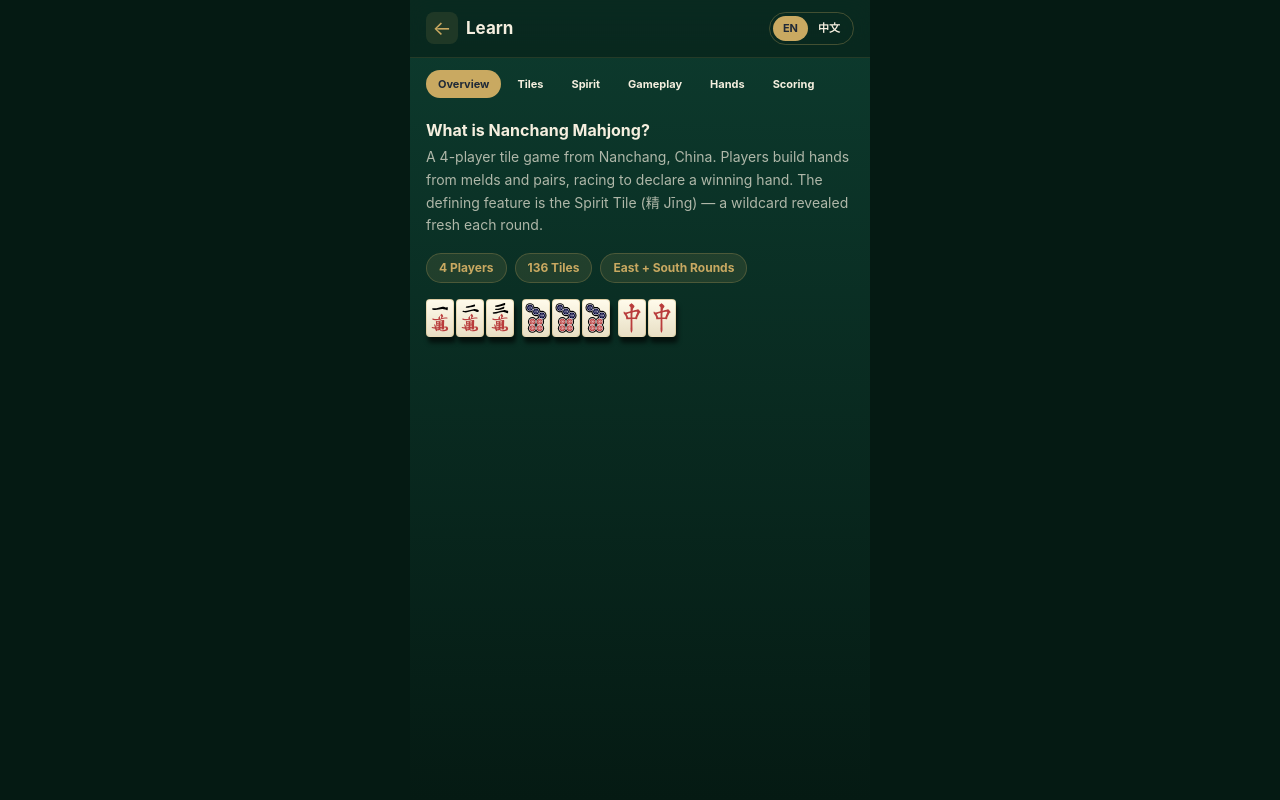
Test: LearnPage › Learn·examples-render — switching to Spirit tab renders spirit tile content
Click the tab "Spirit" at coordinates (586, 84), box [560, 70, 612, 98]
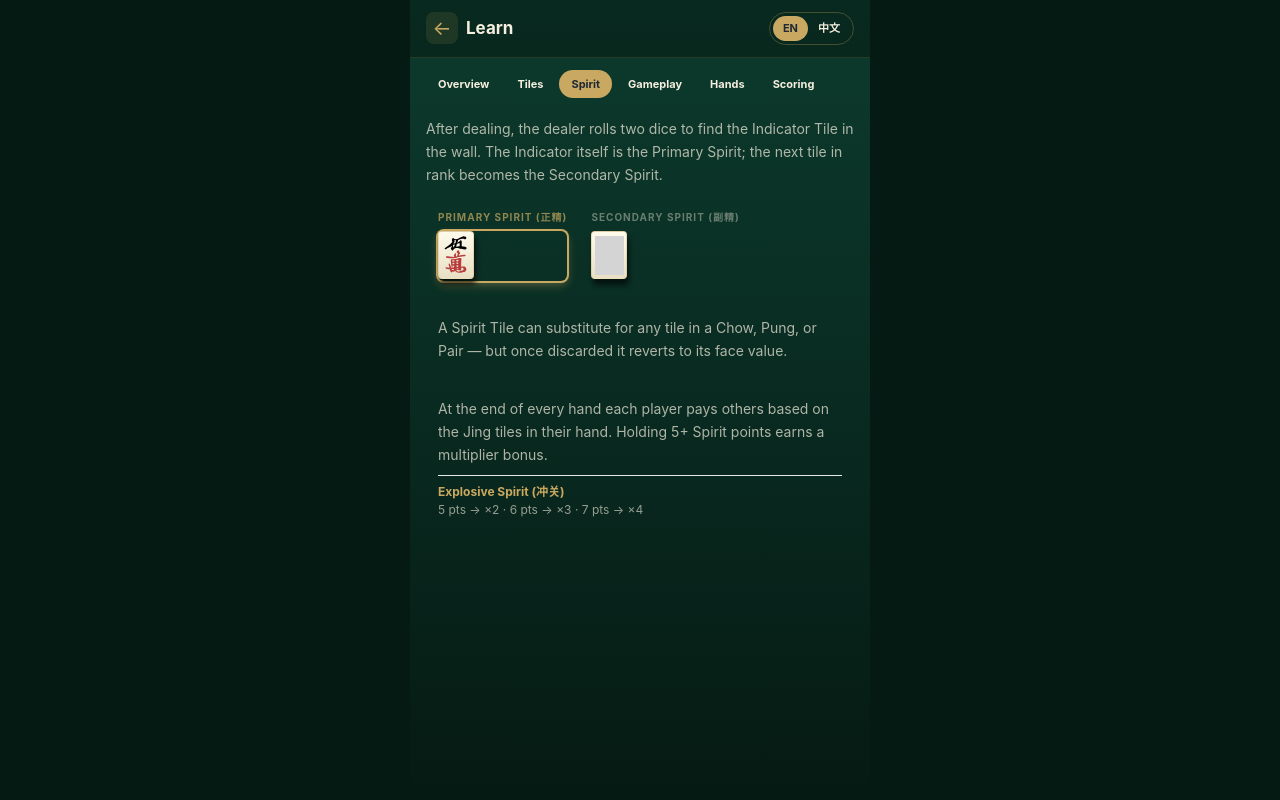
expect the text "Primary Spirit (正精)" is shown: met, box [438, 210, 567, 225]
expect the text "Secondary Spirit (副精)" is shown: met, box [591, 210, 740, 225]
